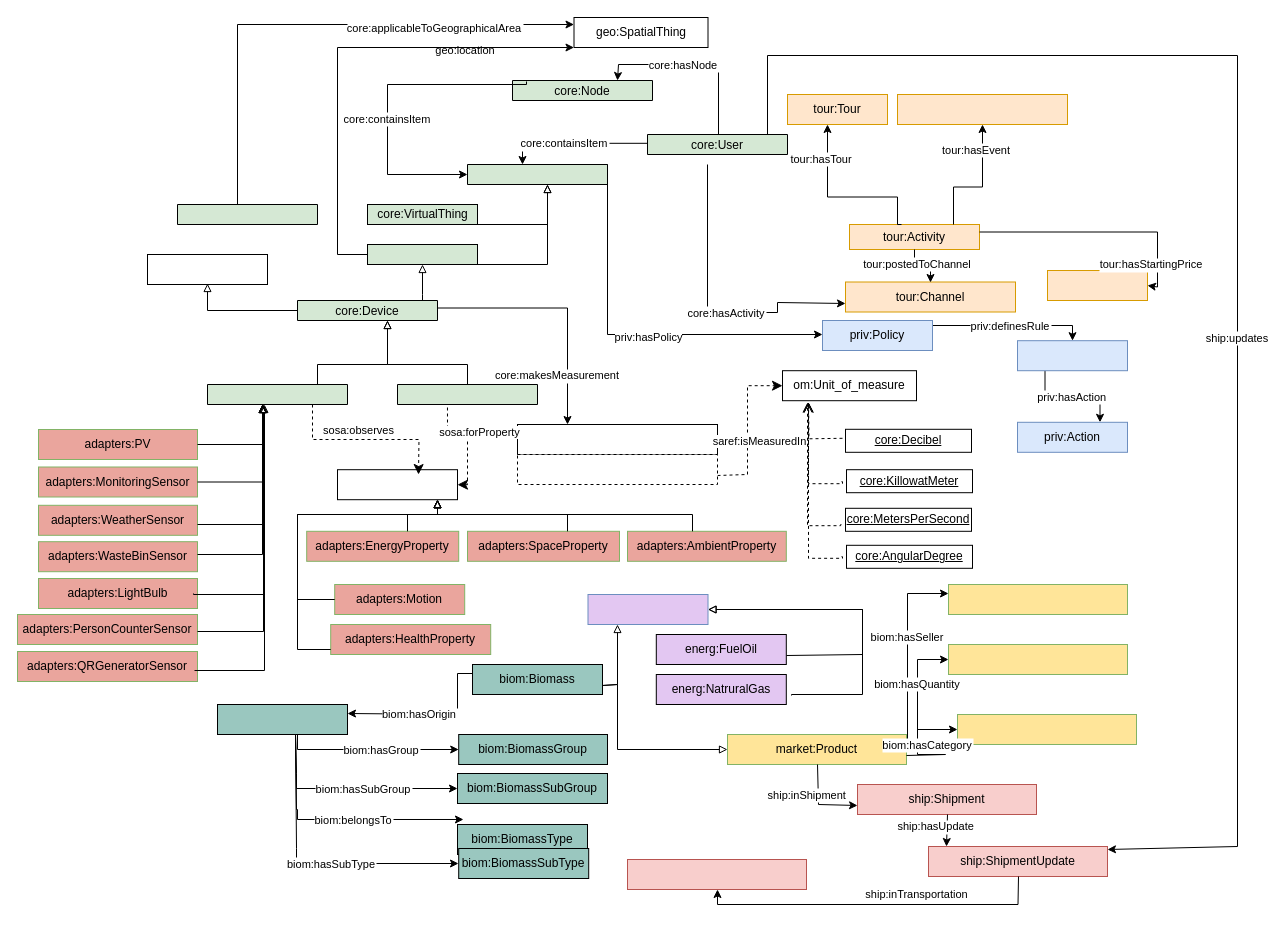
This 1287x930 diagram has some shape labels left out. The centre of each missing label's shape, as x and y in pixels:
"(F) saref:hasTimeStamp: dateTime saref:hasValue" belongs at (617,469).
"biom:BiomassOrigin" belongs at (282,719).
"core:Actuator" belongs at (467,394).
"core:Item" belongs at (537,174).
"core:PhysicalThing" belongs at (422,254).
"core:Sensor" belongs at (277,394).
"core:Service" belongs at (247,214).
"energ:SourceEnergy" belongs at (647,609).
"market:Category" belongs at (1046,729).
"market:Seller" belongs at (1038,599).
"market:Stock" belongs at (1038,659).
"priv:Rule" belongs at (1072,355).
"saref:Device" belongs at (207,269).
"saref:Measurement" belongs at (617,439).
"ship:Transportation" belongs at (716,874).
"ssn:Property" belongs at (397,484).
"tour:Event" belongs at (982,109).
"tour:Price" belongs at (1097,285).
